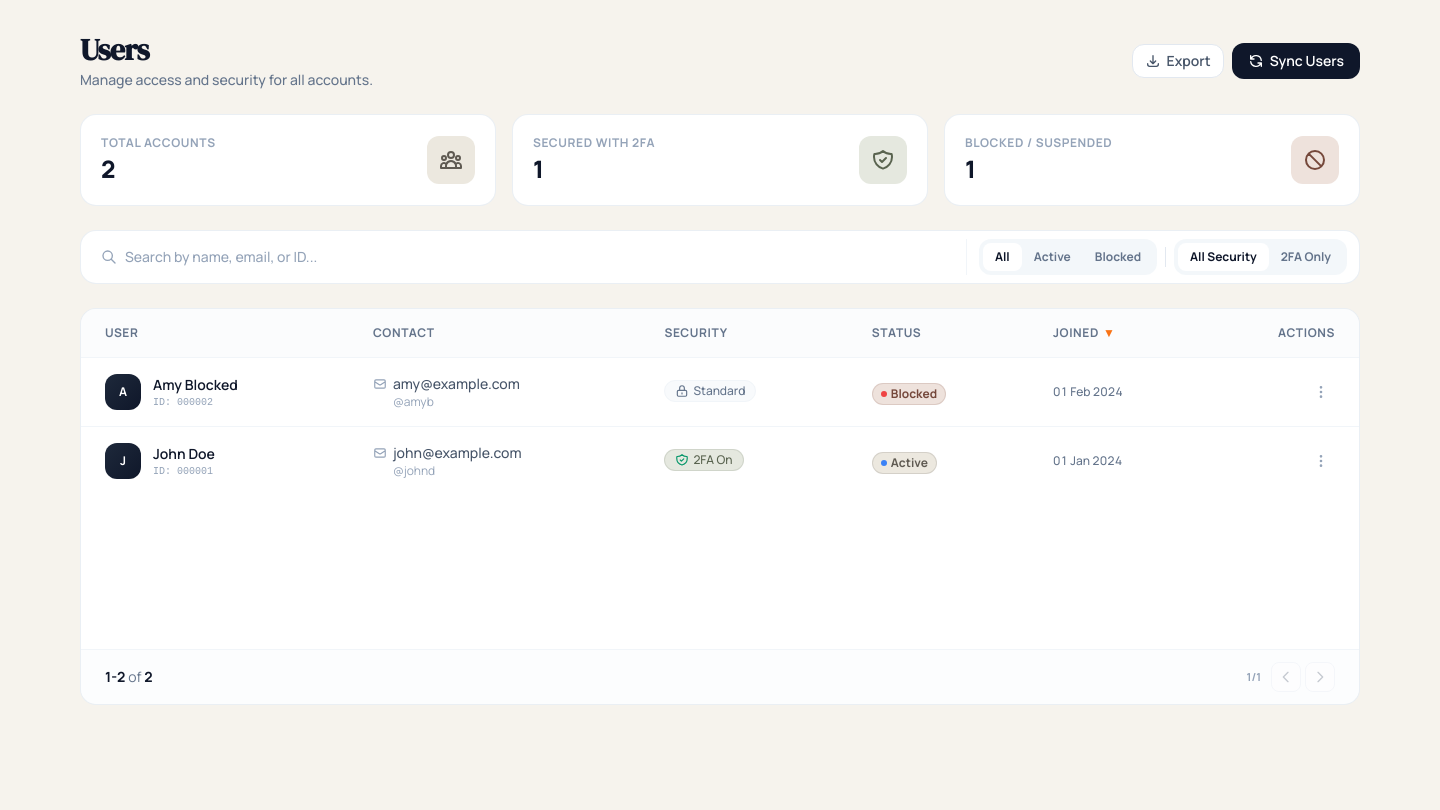
AdminUsers Component › sends a password reset email after confirming in the modal
Click the button without text in the row of "John Doe". click: [1321, 461]
box: [1307, 447, 1335, 475]
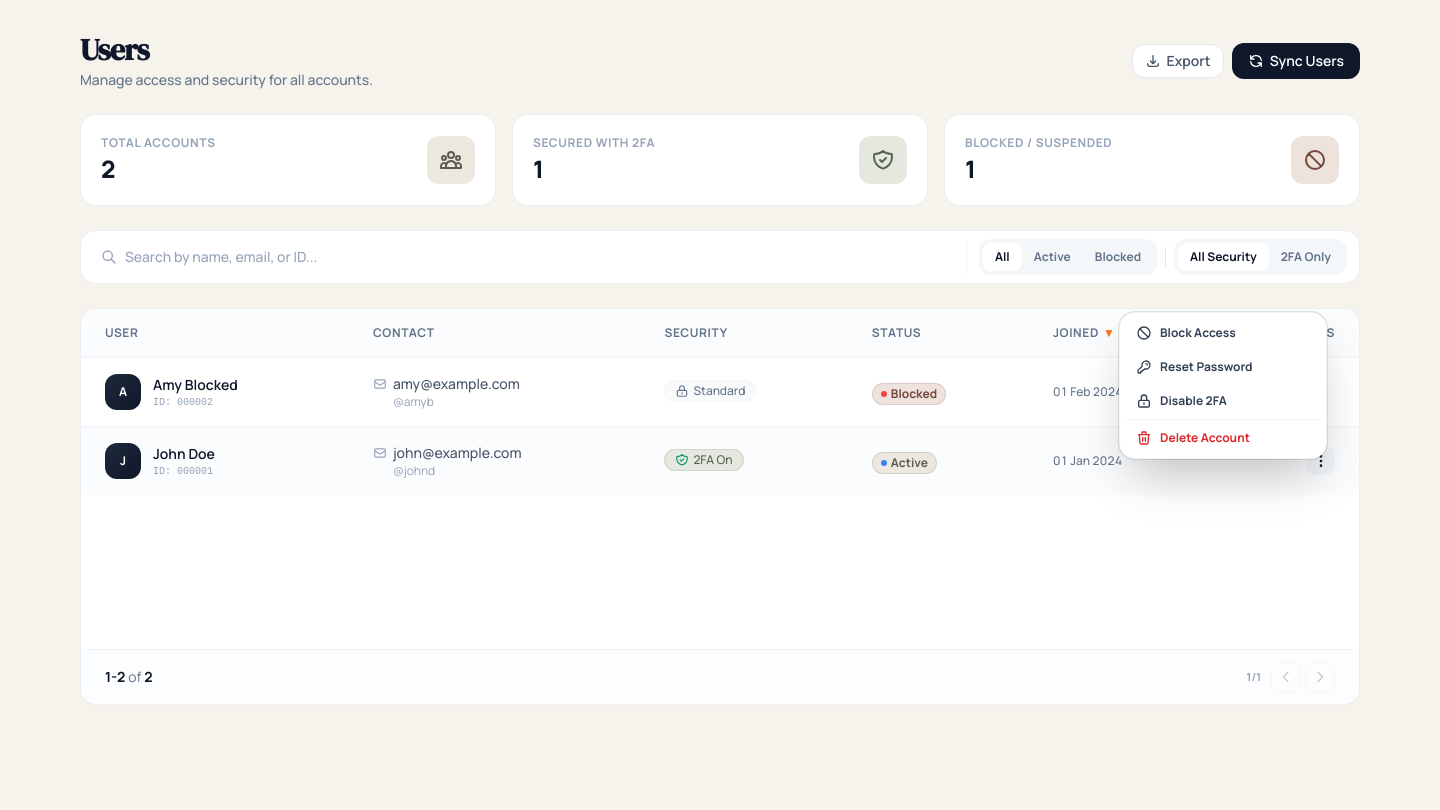
Click the button "Reset Password". click: [1223, 367]
box: [1124, 351, 1322, 383]
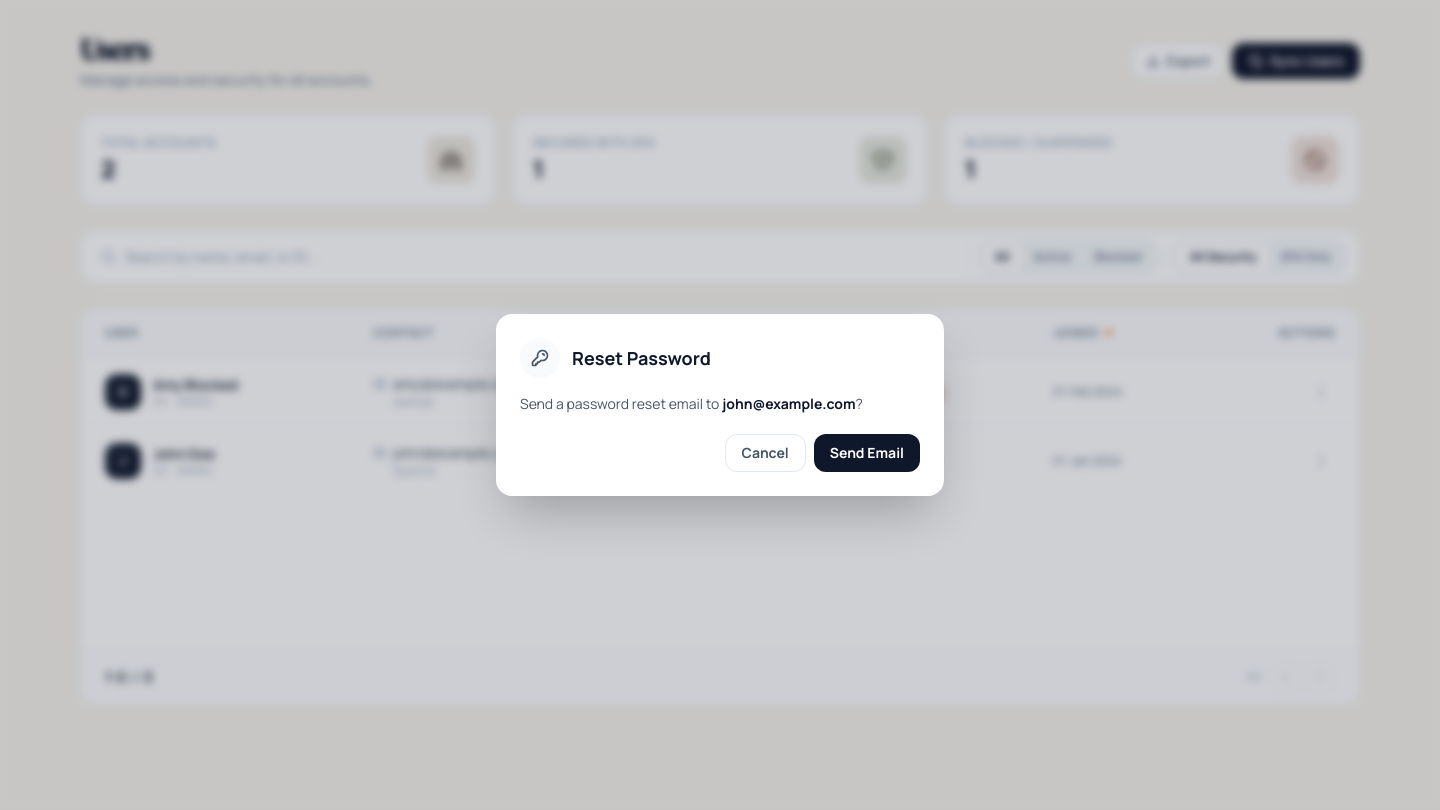
Check: the text "Send a password reset email to john@example.com?" is shown, box [520, 394, 920, 414]
Click the button "Send Email". click: [867, 453]
box: [814, 434, 920, 472]
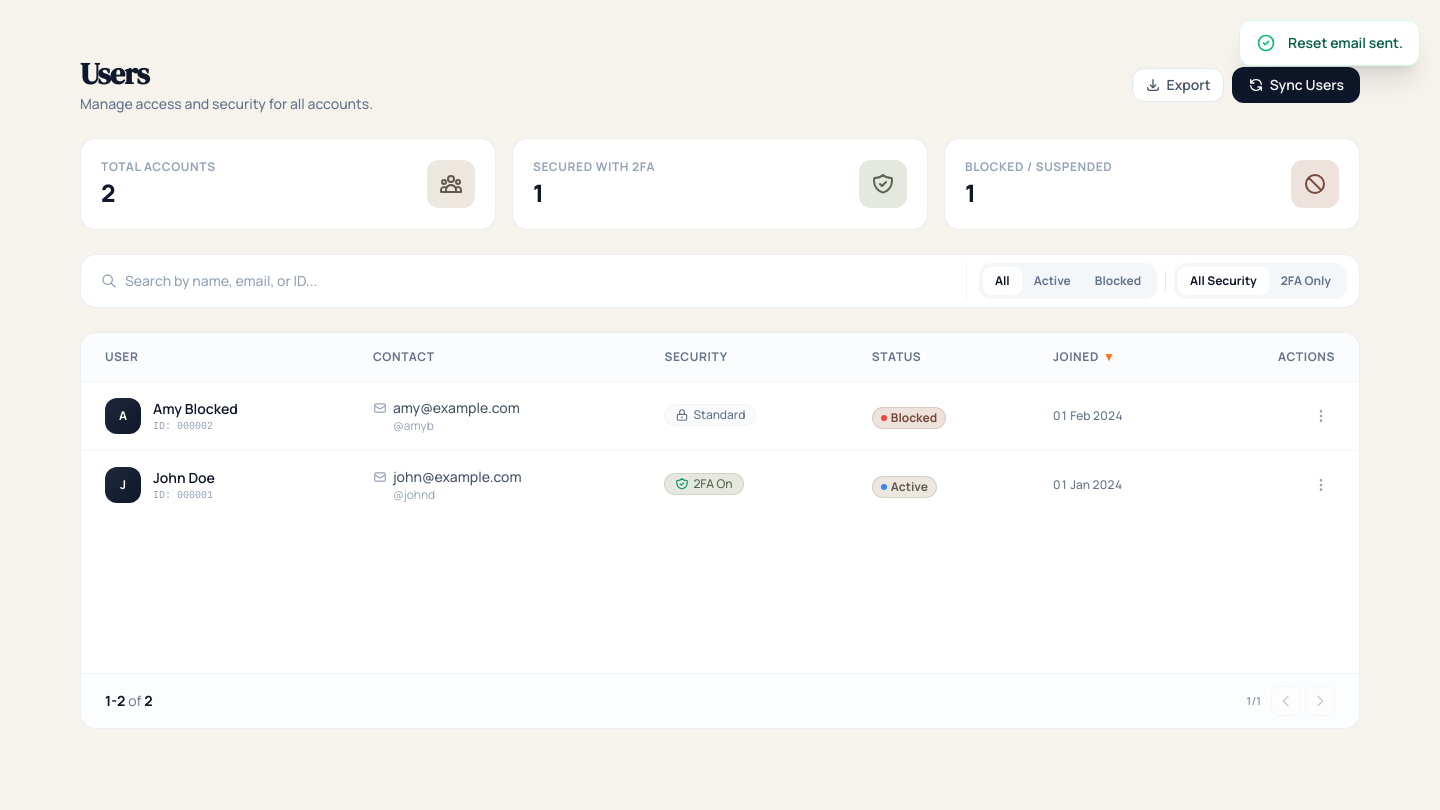
Check: the text "Reset email sent." is shown, box [1288, 33, 1403, 53]
